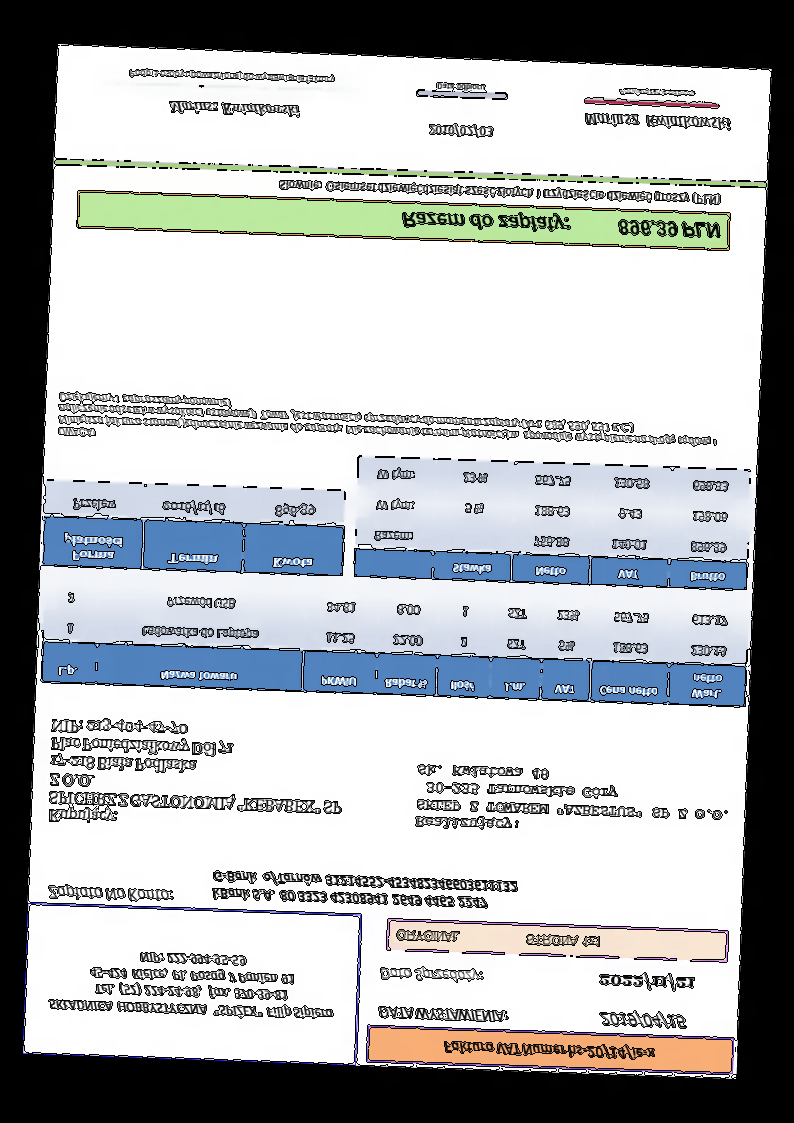Table: (39, 576, 751, 709), (352, 455, 751, 593), (41, 478, 345, 578)
TextBox: (55, 389, 722, 463), (43, 715, 350, 838), (411, 760, 730, 842), (47, 947, 336, 1024), (277, 174, 725, 210), (209, 869, 520, 914), (399, 206, 724, 245), (441, 1037, 656, 1064), (126, 63, 338, 90), (394, 926, 605, 952), (582, 108, 736, 133), (166, 97, 302, 123), (376, 1004, 510, 1027), (43, 883, 177, 906), (377, 963, 485, 987), (595, 968, 696, 993), (596, 1009, 688, 1032), (617, 82, 697, 102), (425, 120, 494, 141), (433, 81, 488, 95)
